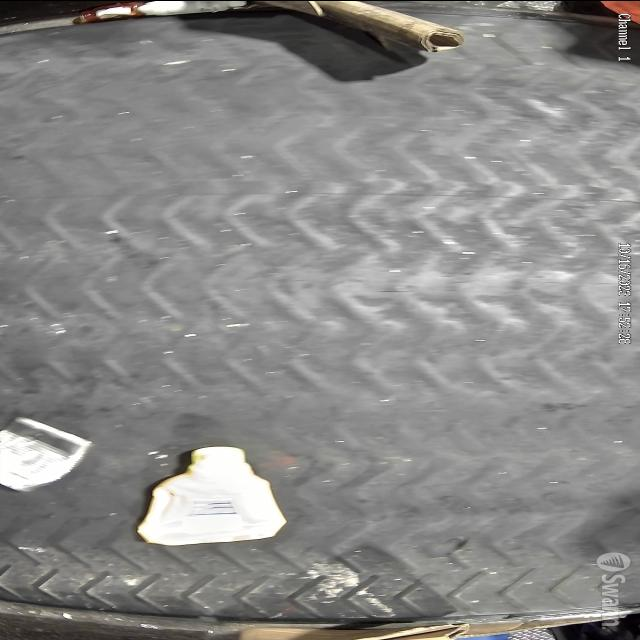can: (0, 415, 92, 492)
non_white_jug: (136, 445, 288, 546)
